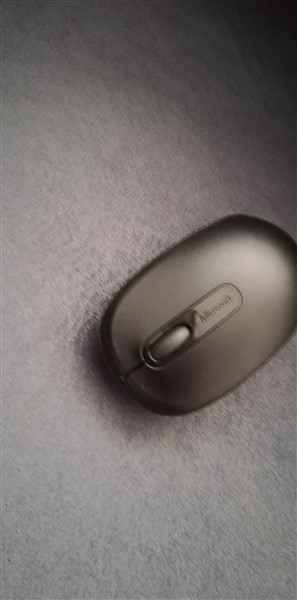mouse: (93, 208, 297, 425)
